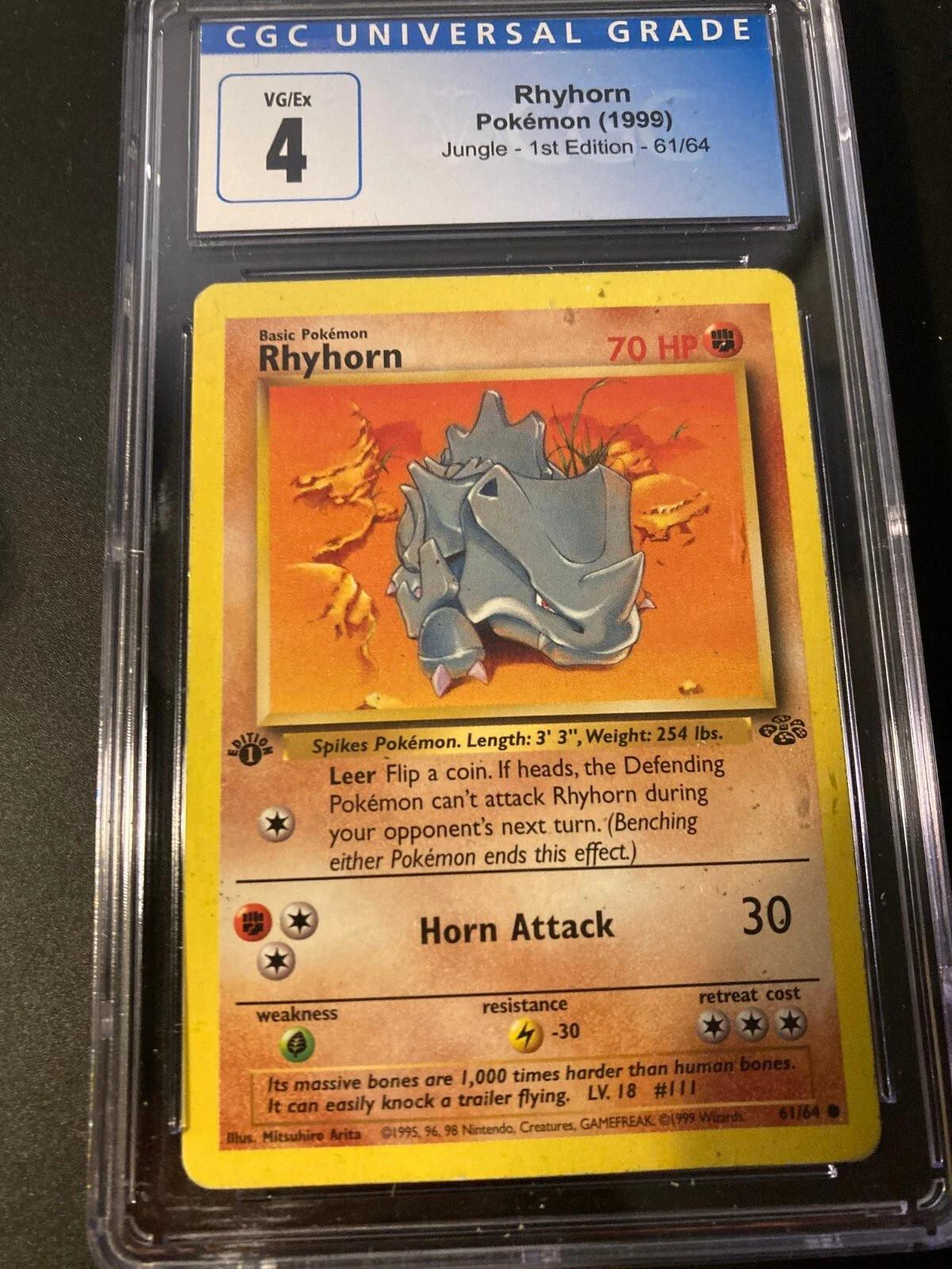card-2UtV: (180, 267, 882, 1190)
